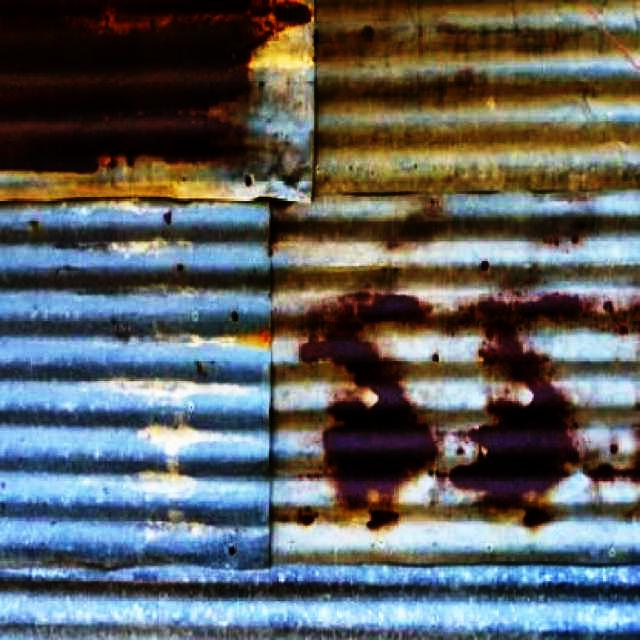Corrosion: (0, 0, 314, 199), (299, 333, 437, 530), (449, 322, 577, 508), (311, 292, 431, 328), (468, 293, 590, 320), (589, 465, 640, 483)
